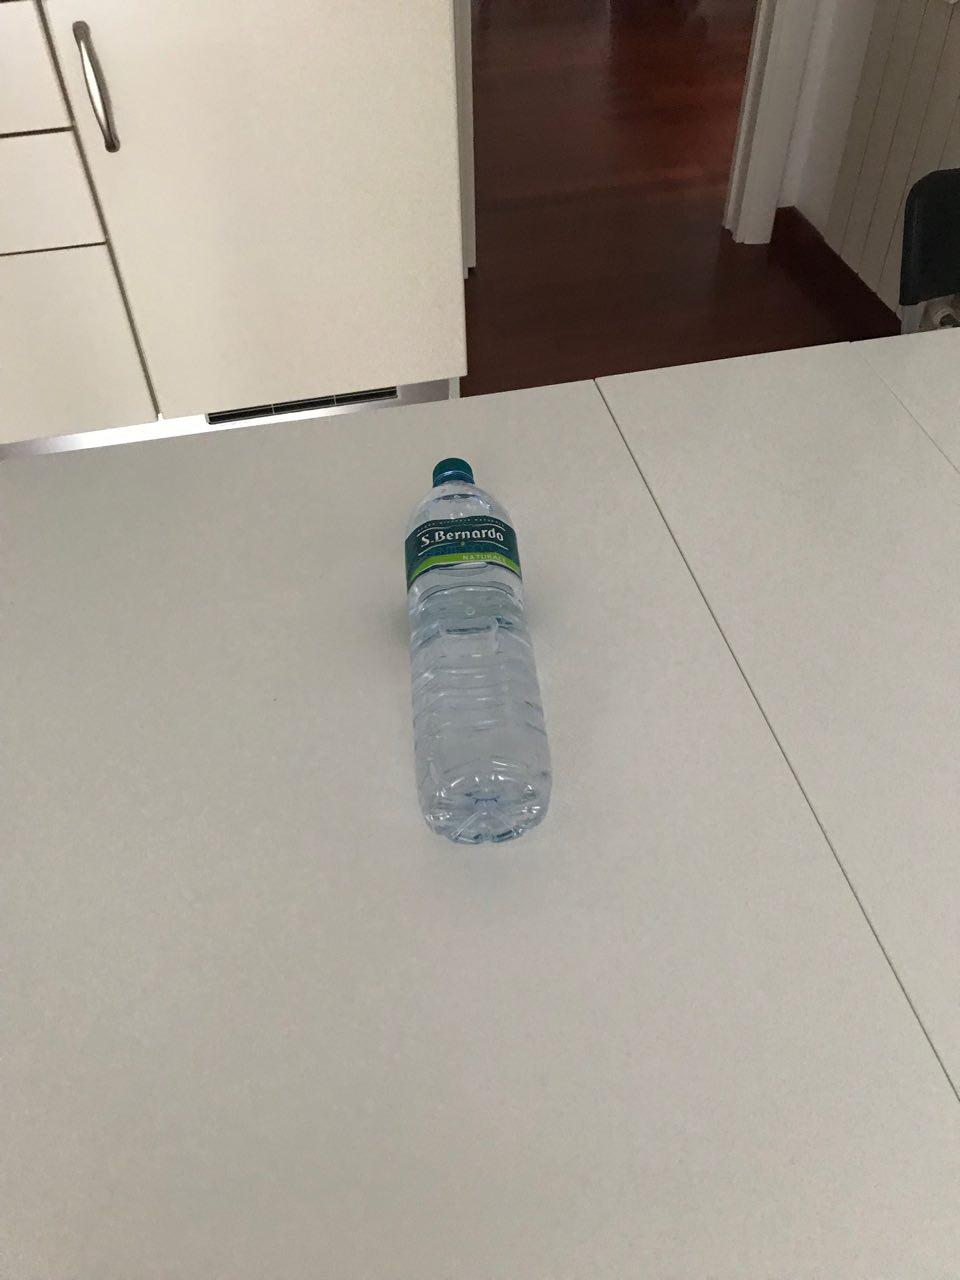san_bernardo: (403, 458, 553, 844)
